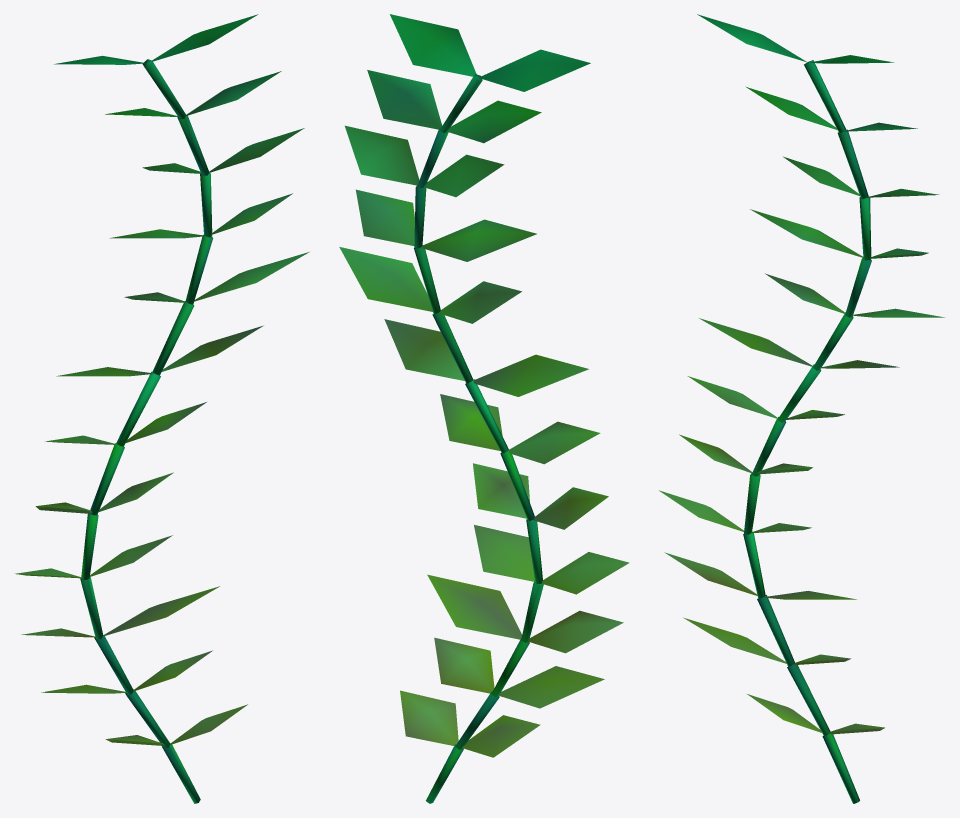
File: Ivy_A.fbx
3 renders of one model, left to right at view 1: azimuth 30°, elevation 25°; view 2: azimuth 150°, elevation 25°; view 3: azimuth 330°, elevation 25°, orthographic. The views are drawn at different scales.
Visible parts, largest first — view 1: Ivy_A; view 2: Ivy_A; view 3: Ivy_A.
Boxes of the visible parts, x1,y1,x2,y2 form: Ivy_A: [15, 14, 309, 803]; Ivy_A: [339, 14, 629, 803]; Ivy_A: [659, 14, 944, 803].
Bounding box in the file's own units: 0.2384 × 0.6021 × 0.0438.
